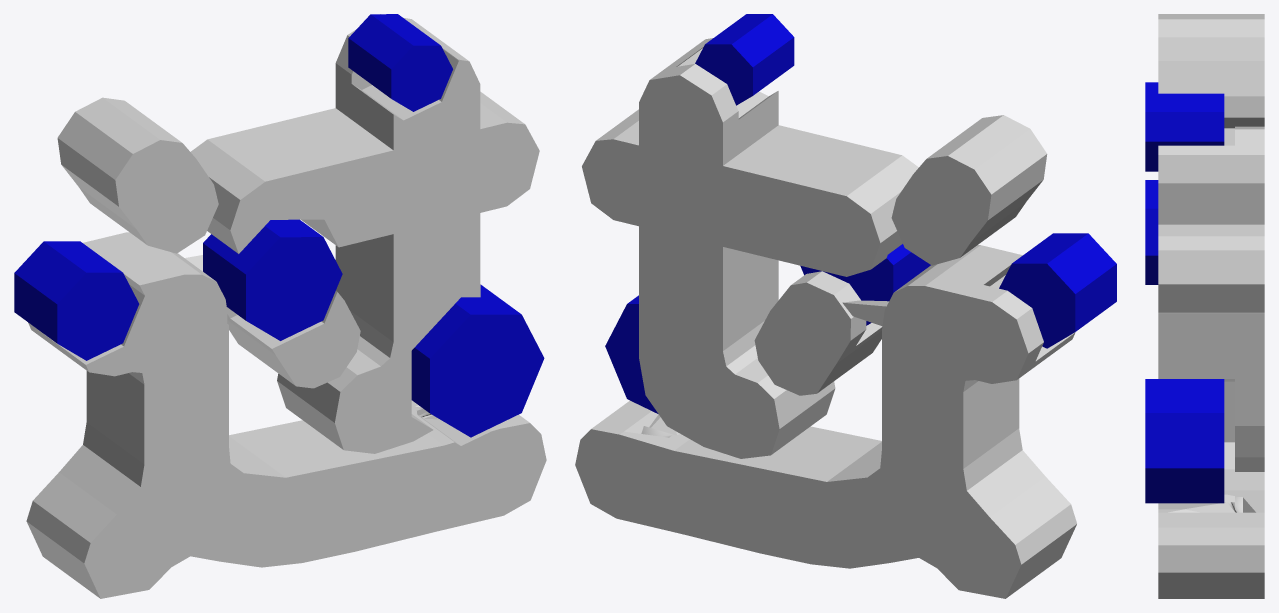
File: Ch_Lite_China_过_01.fbx
3 views of the same model, side by side, from view 1: azimuth 30°, elevation 25°; view 2: azimuth 150°, elevation 25°; view 3: azimuth 270°, elevation 25° (orthographic). The views are drawn at different scales.
Visible parts, largest first — view 1: sphere1; view 2: sphere1; view 3: sphere1.
Part boxes in pixels (box(x1,y1,x2,y2)): sphere1: box(14, 14, 546, 598); sphere1: box(575, 14, 1116, 598); sphere1: box(1145, 14, 1264, 598).
Size of the model in its own units: 0.9908 by 0.9515 by 0.2242.
